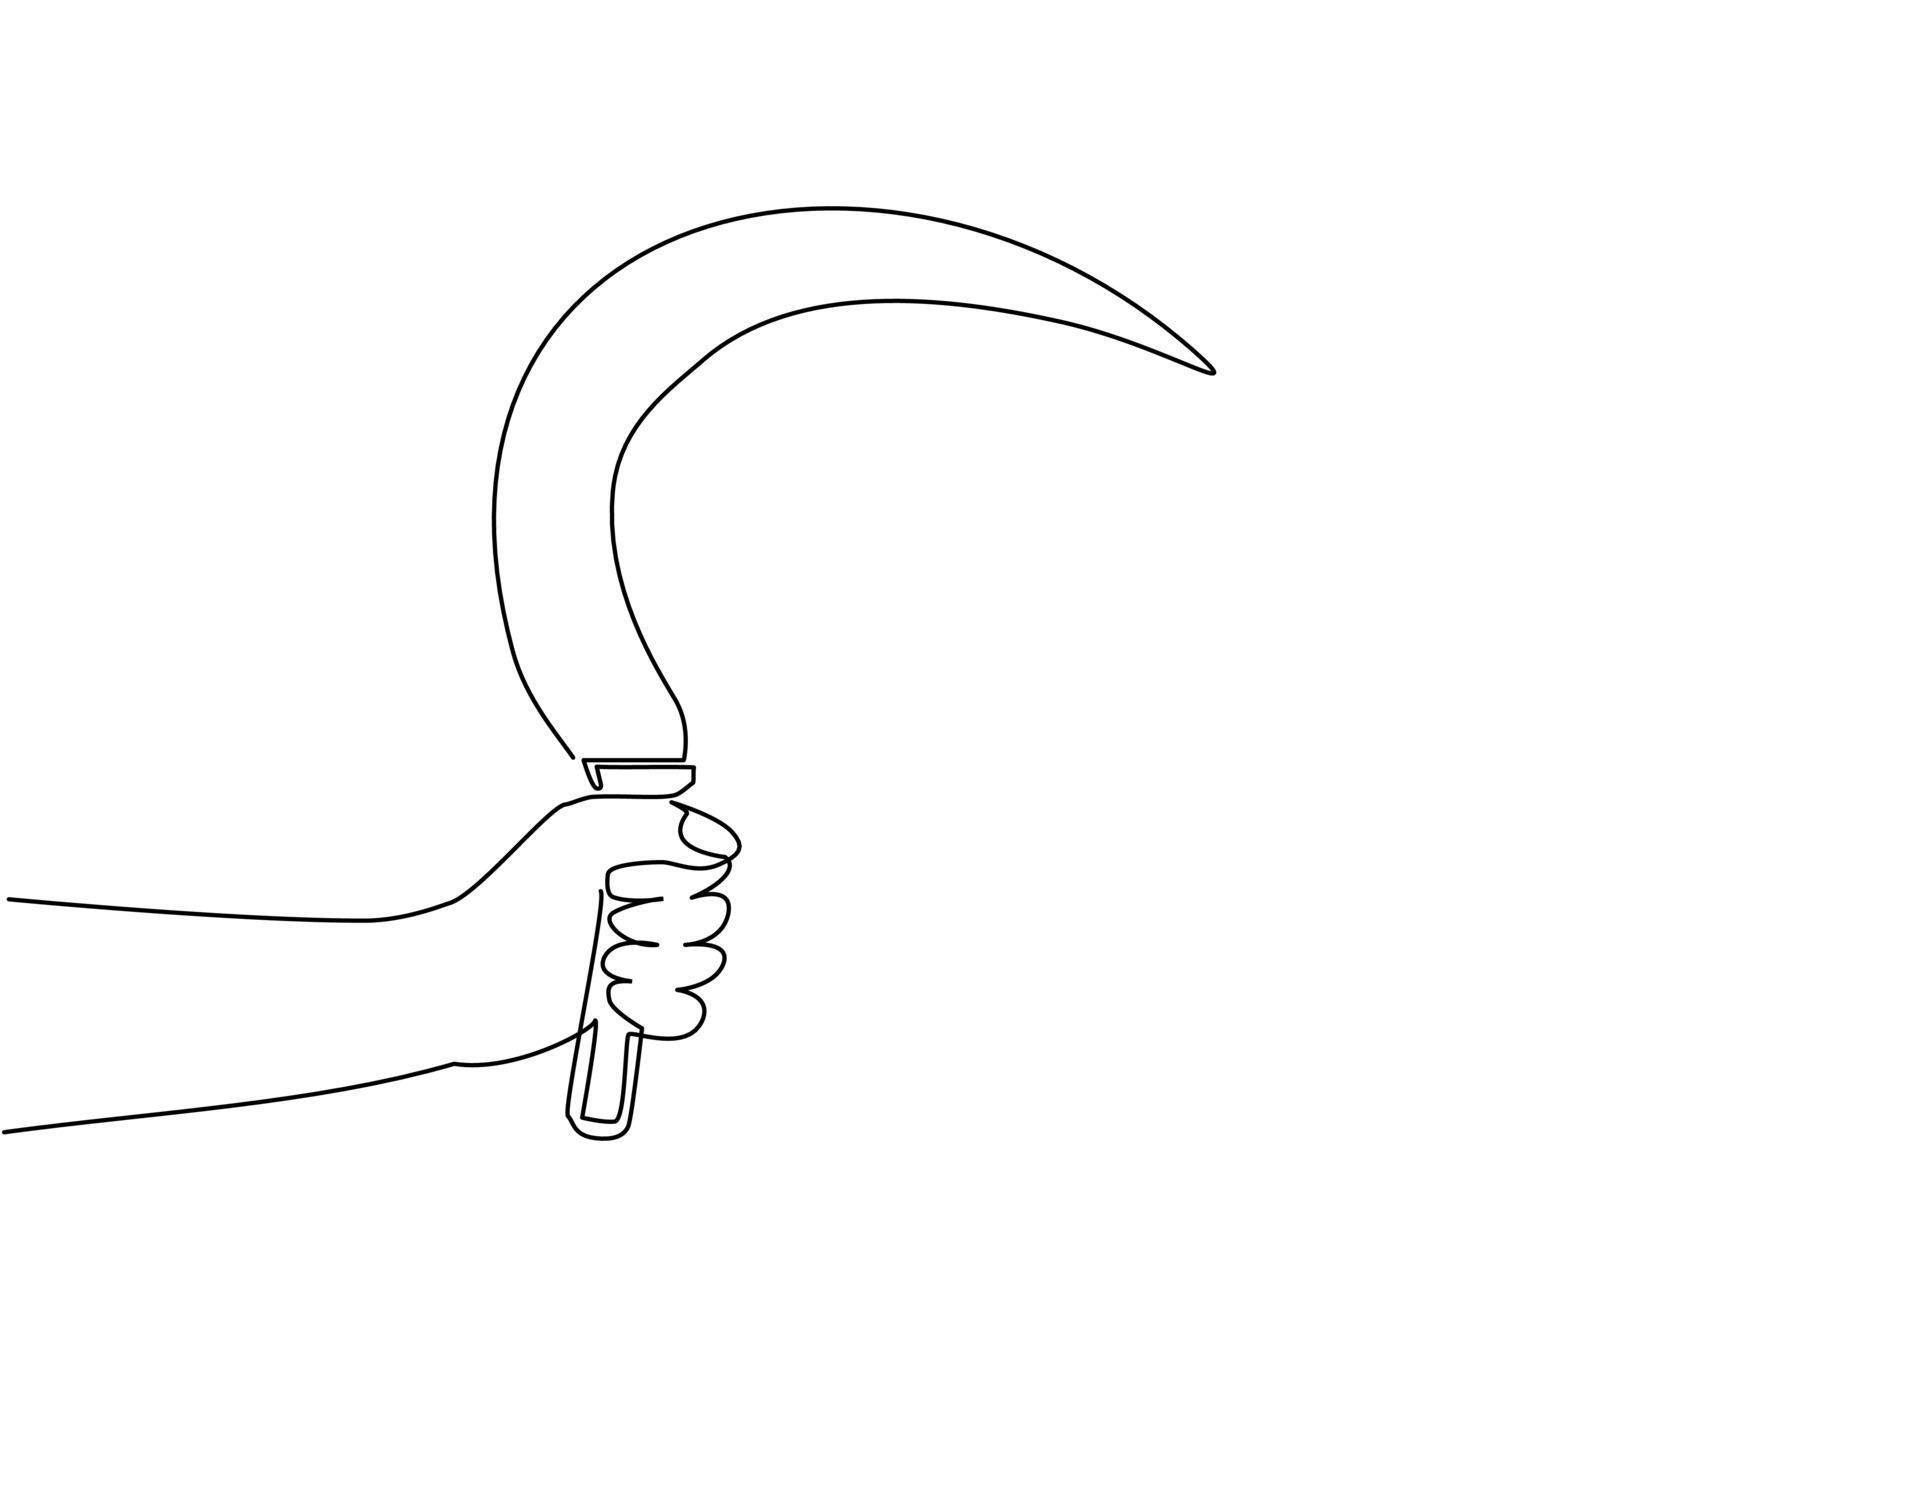foice: (488, 203, 1216, 1163)
